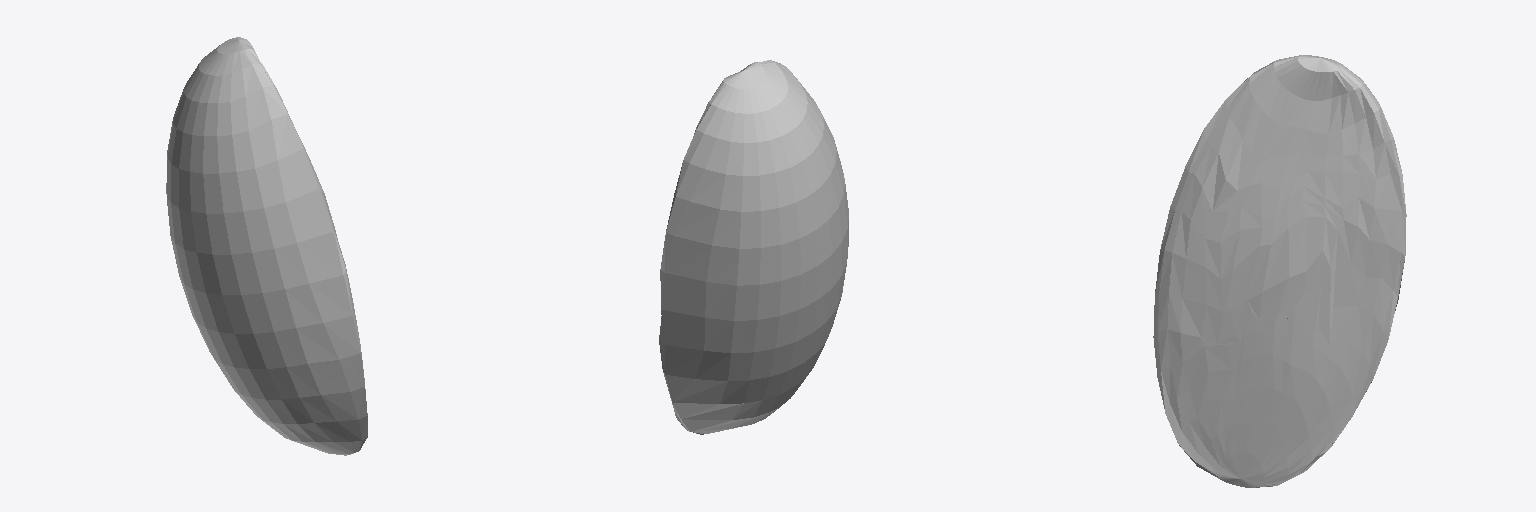
File: Left Hand.obj
3 views of the same model, side by side, from view 1: azimuth 30°, elevation 25°; view 2: azimuth 150°, elevation 25°; view 3: azimuth 270°, elevation 25° (orthographic).
Parts seen in each view (by area): view 1: Left_Hand_Sphere.034; view 2: Left_Hand_Sphere.034; view 3: Left_Hand_Sphere.034.
Part boxes in pixels (x1,y1,x2,y2): Left_Hand_Sphere.034: (166,37,367,455); Left_Hand_Sphere.034: (659,60,848,434); Left_Hand_Sphere.034: (1153,55,1406,487).
Size of the model in its own units: 0.2029 by 0.5615 by 0.3223.